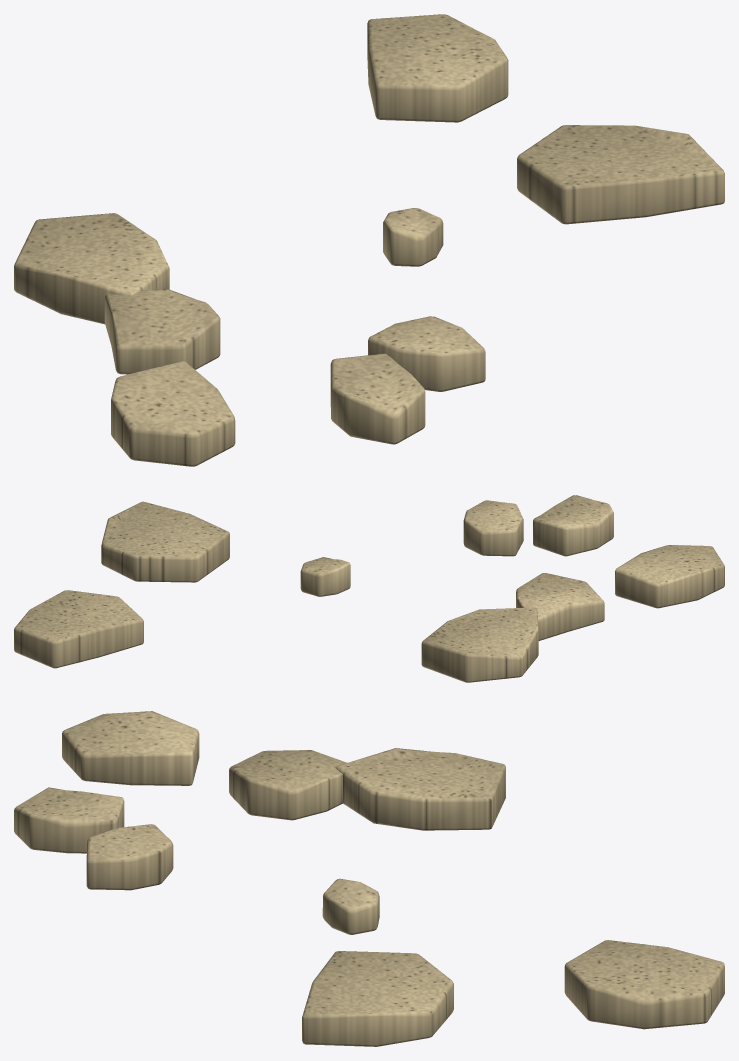
Rendered from food-01-half.glb.
The picture shows the model from 3 angles, top to bottom: view 1: azimuth 30°, elevation 25°; view 2: azimuth 150°, elevation 25°; view 3: azimuth 270°, elevation 25°; orthographic projection. The views are drawn at different scales.
Visible parts, largest first — view 1: Food; view 2: Food; view 3: Food.
Part boxes in pixels (x1,y1,x2,y2): Food: [14, 14, 724, 466]; Food: [14, 495, 724, 682]; Food: [14, 711, 724, 1046].
Bounding box in the file's own units: 0.5639 × 0.0315 × 0.5534.
1 material, 1 textured.
